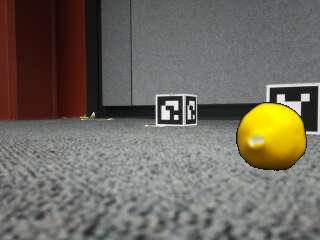lemon: (238, 103, 306, 170)
